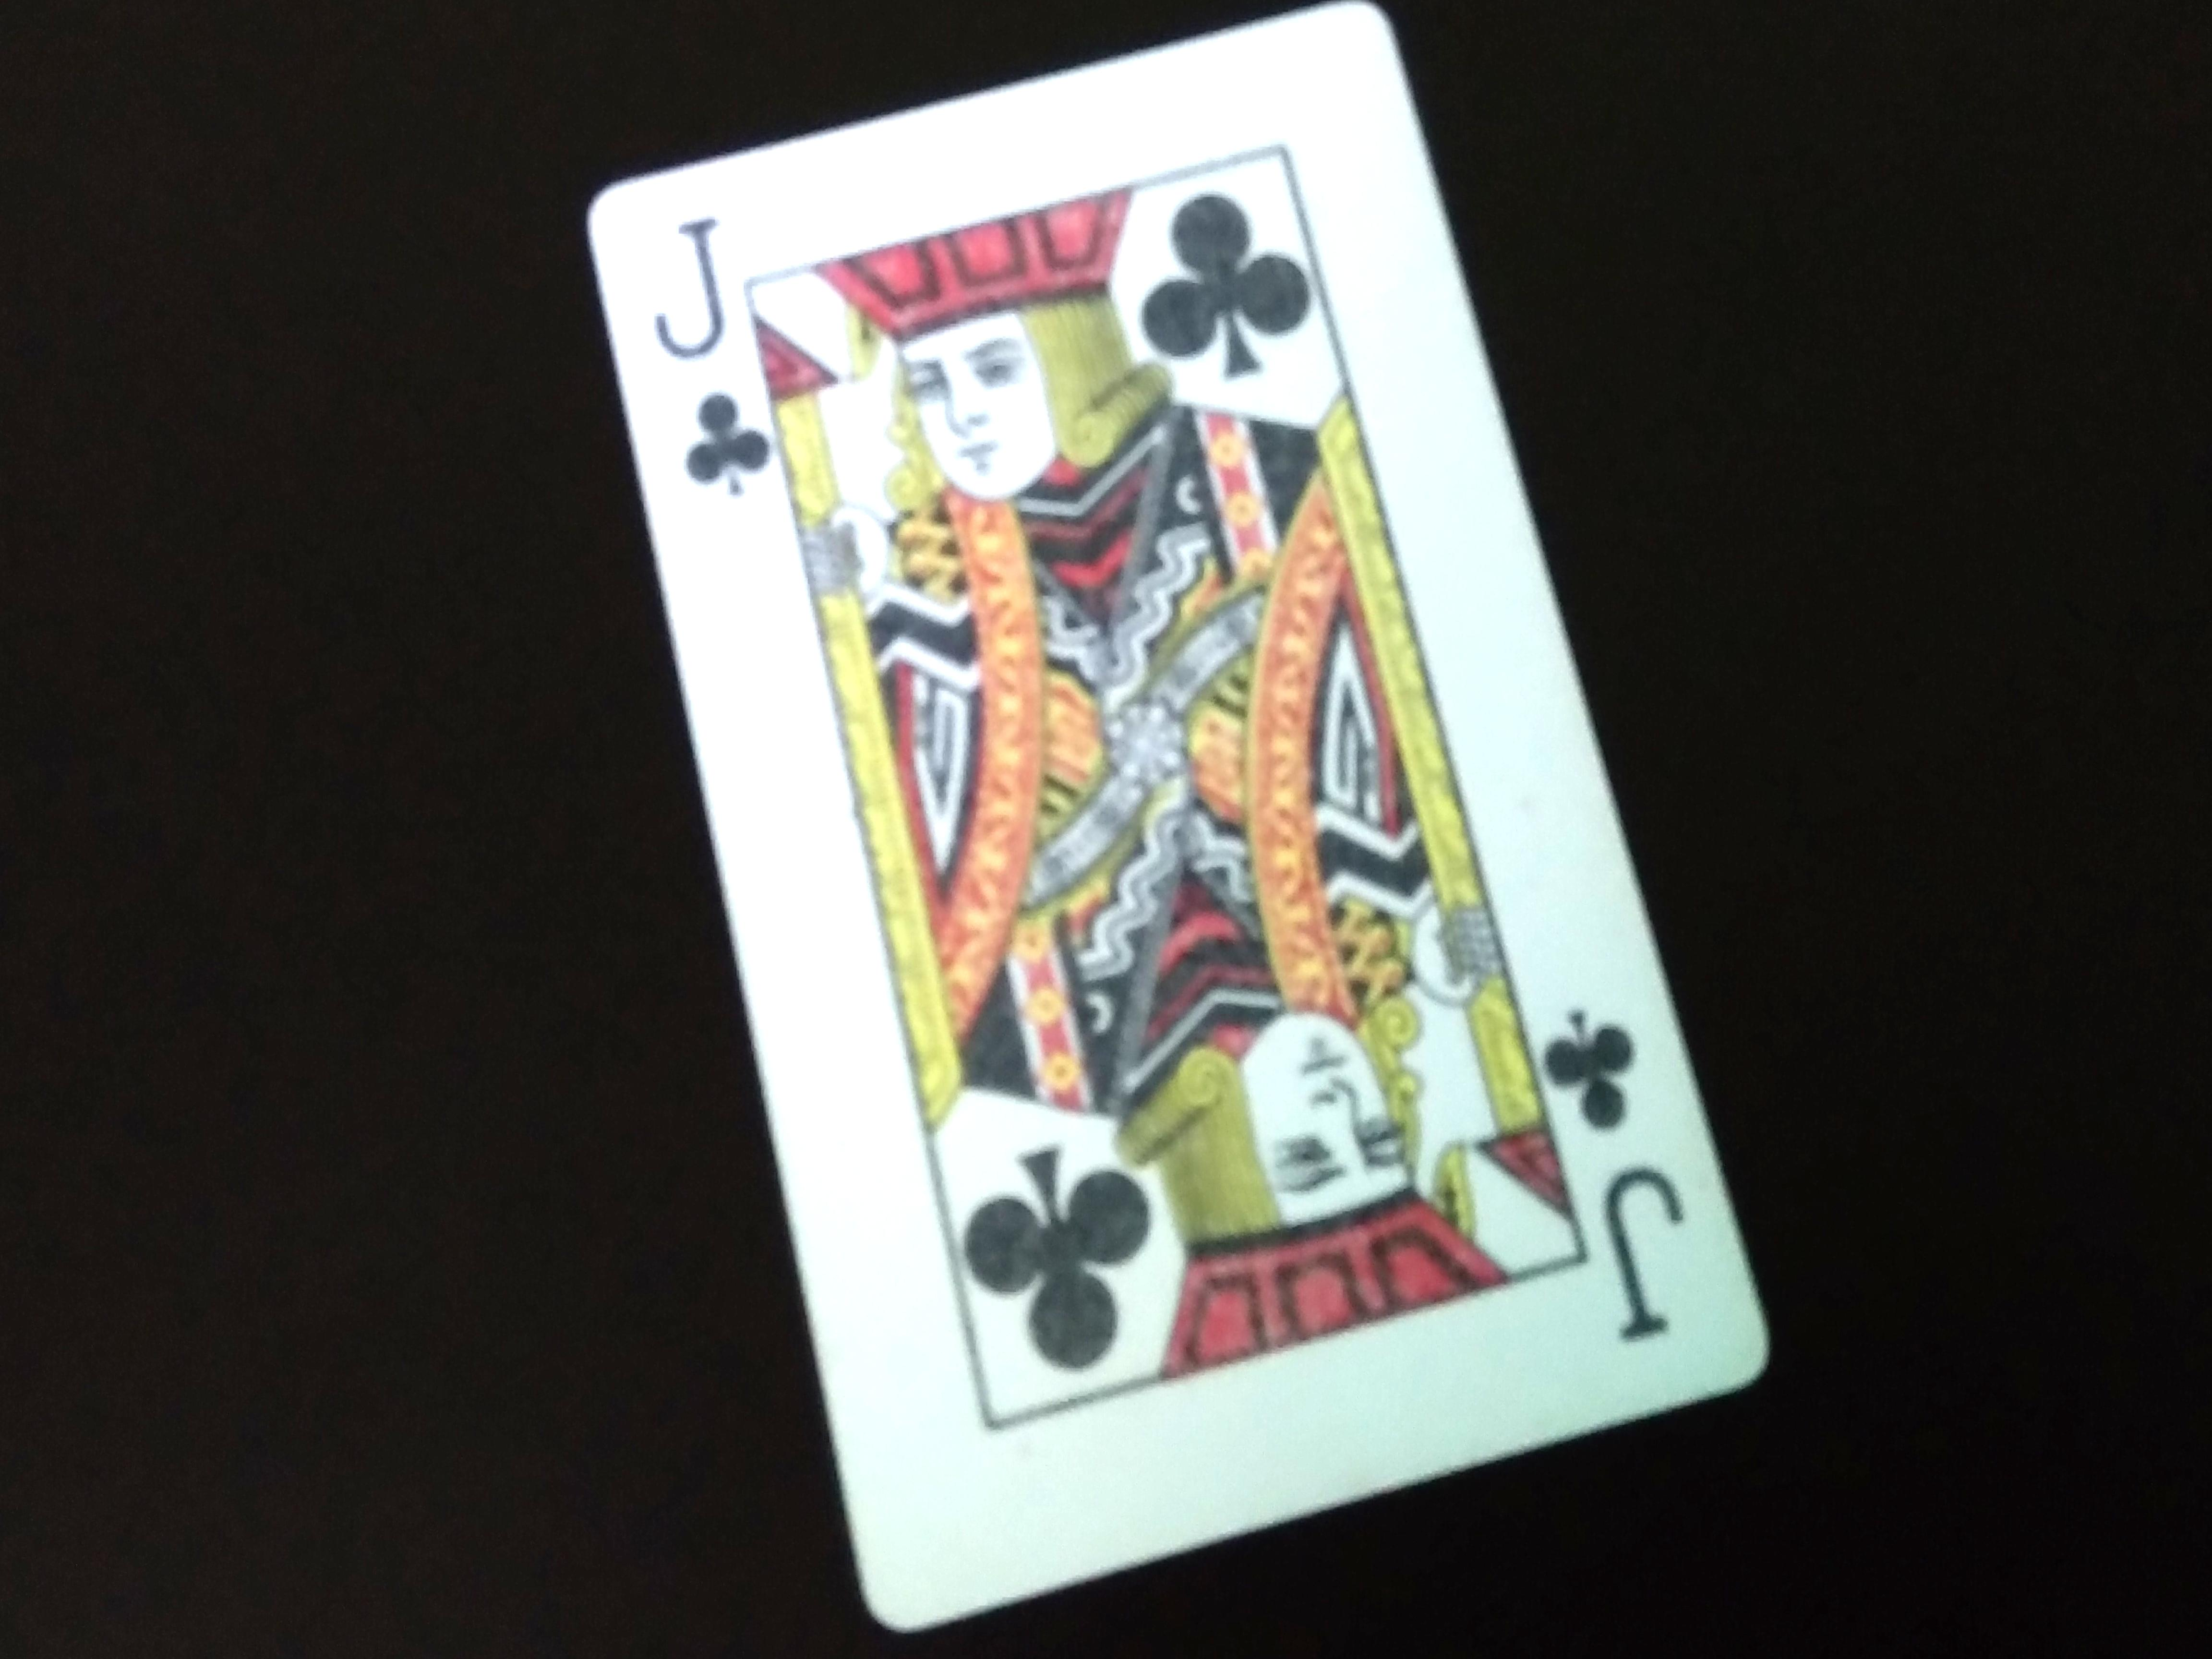JC: (644, 197, 747, 582)
